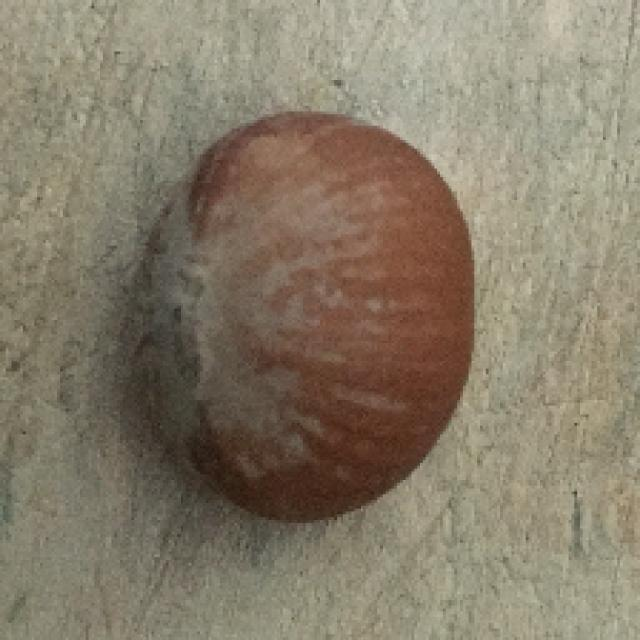QualityHazelnut: (117, 114, 474, 520)
